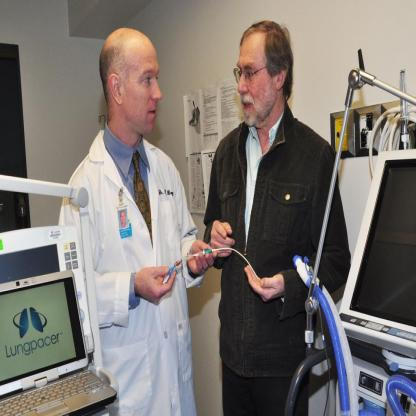board: (0, 268, 116, 416)
